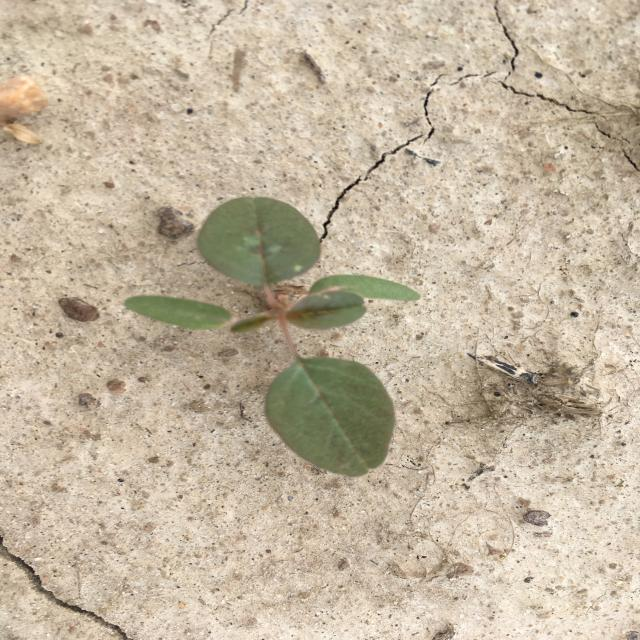PalmerAmaranth: (124, 196, 421, 477)
